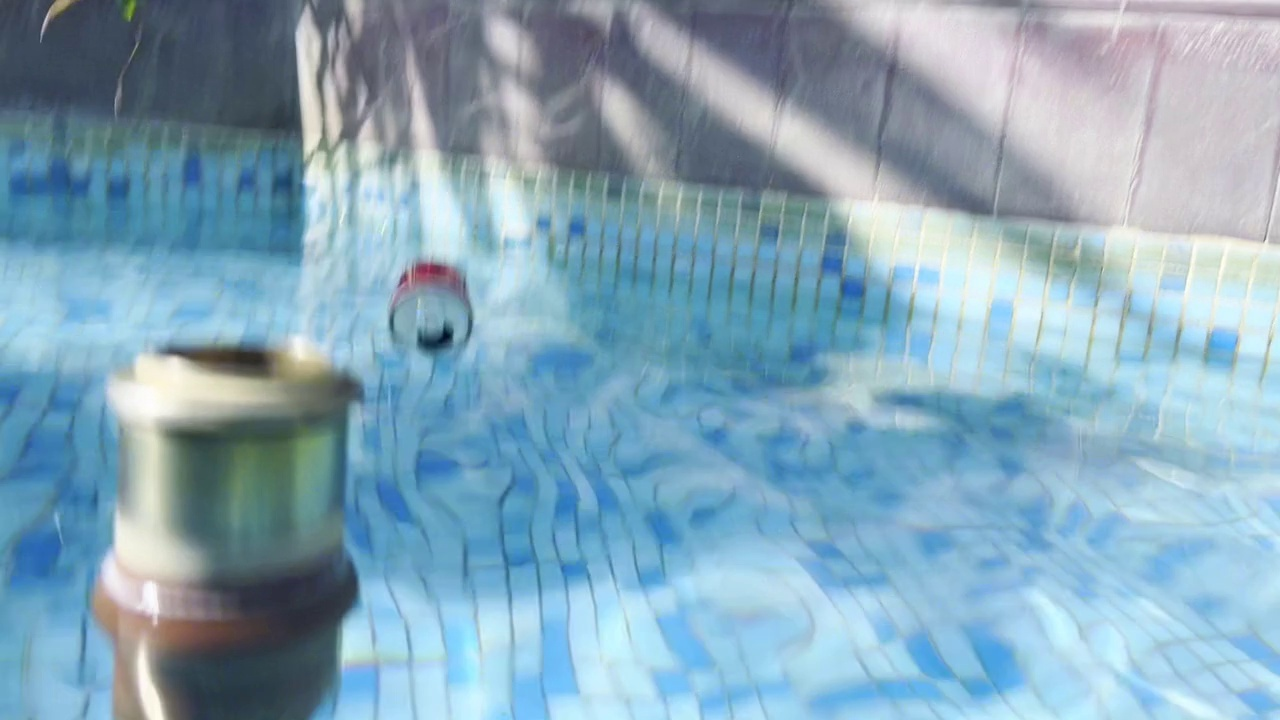debris: (393, 257, 478, 356)
